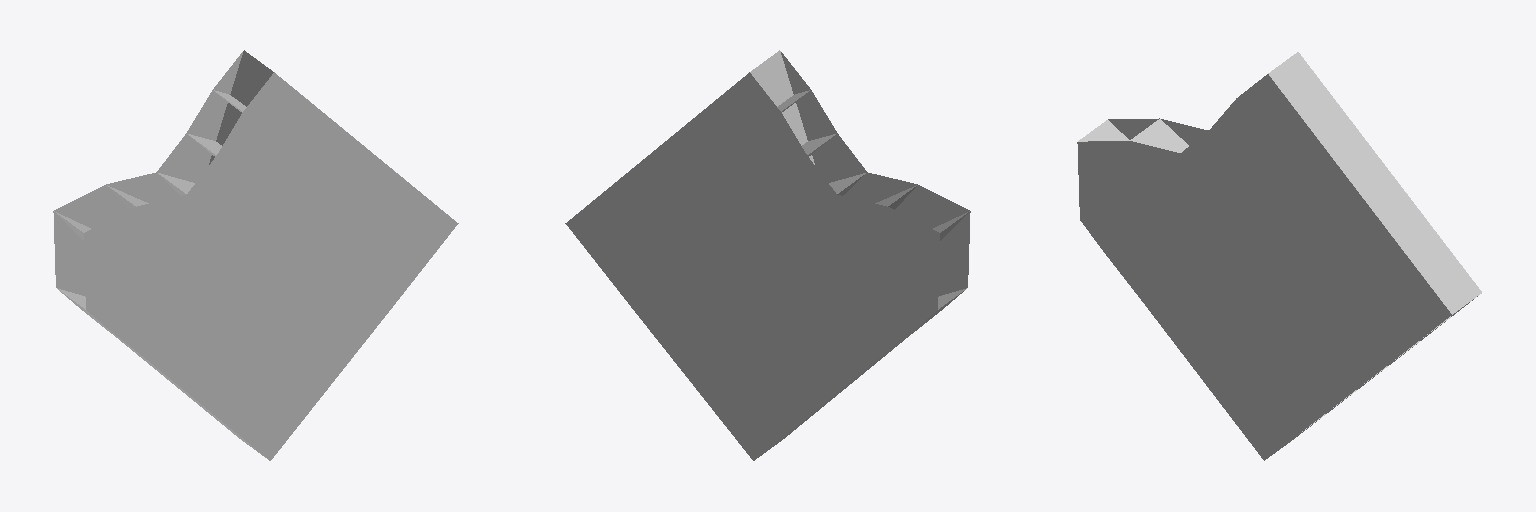
Rendered from 3d_Ungoro Caldera.wlm.obj.
The picture shows the model from 3 angles: view 1: azimuth 30°, elevation 25°; view 2: azimuth 150°, elevation 25°; view 3: azimuth 330°, elevation 25°; orthographic projection.
Size of the model in its own units: 71.27 by 70.56 by 10.